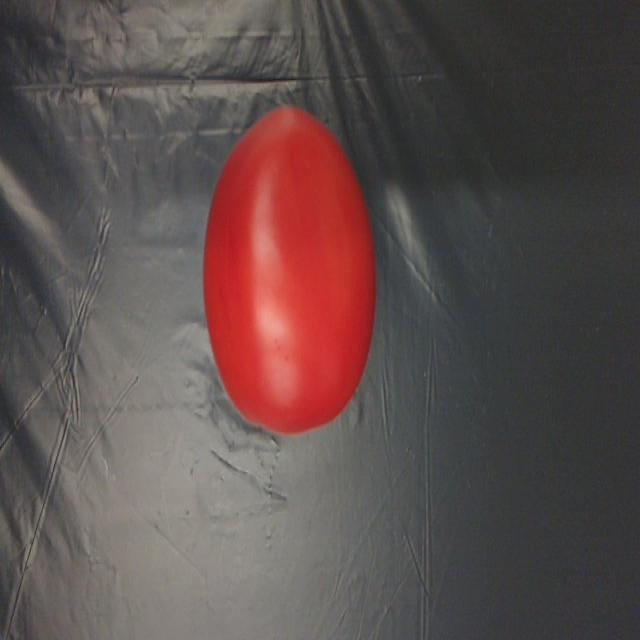kirmizi: (159, 70, 377, 432)
